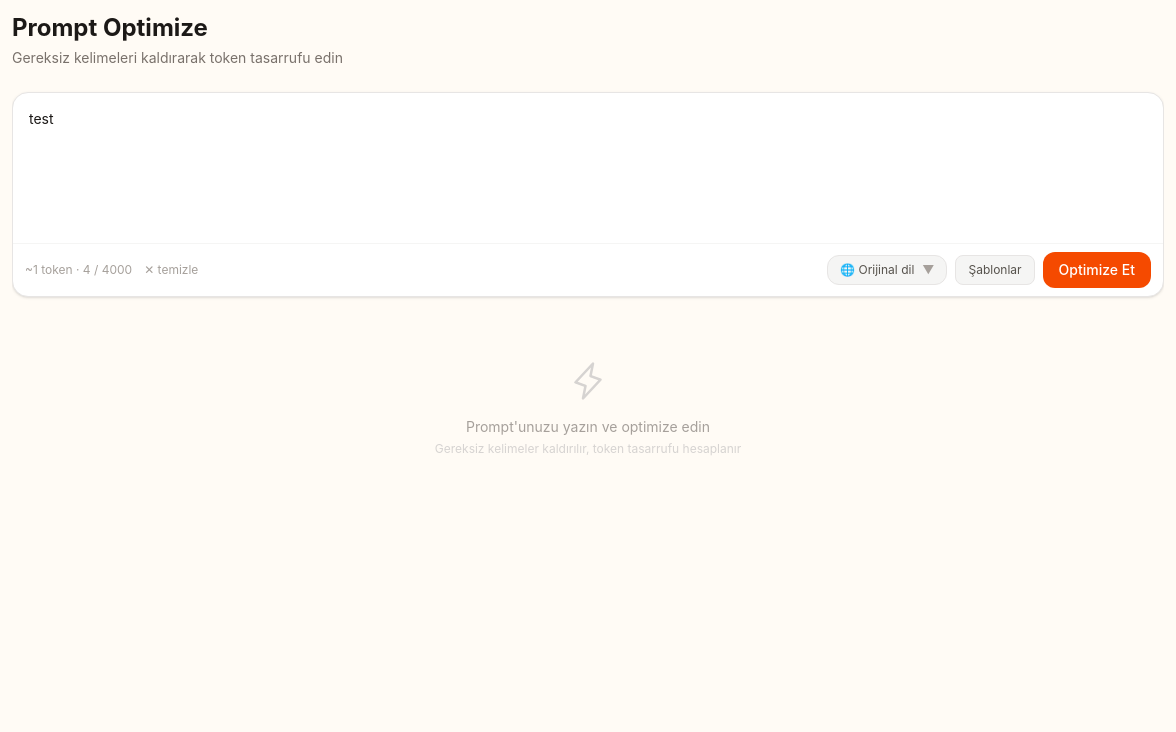
Test: Optimize — başarılı optimizasyon › EmptyState kaybolmalı
This screenshot has width=1176, height=732.
What coordinates should you click on to do the following:
click the button "Optimize Et"
I would click on:
 (1097, 270)
Its box is [1043,252,1151,288].
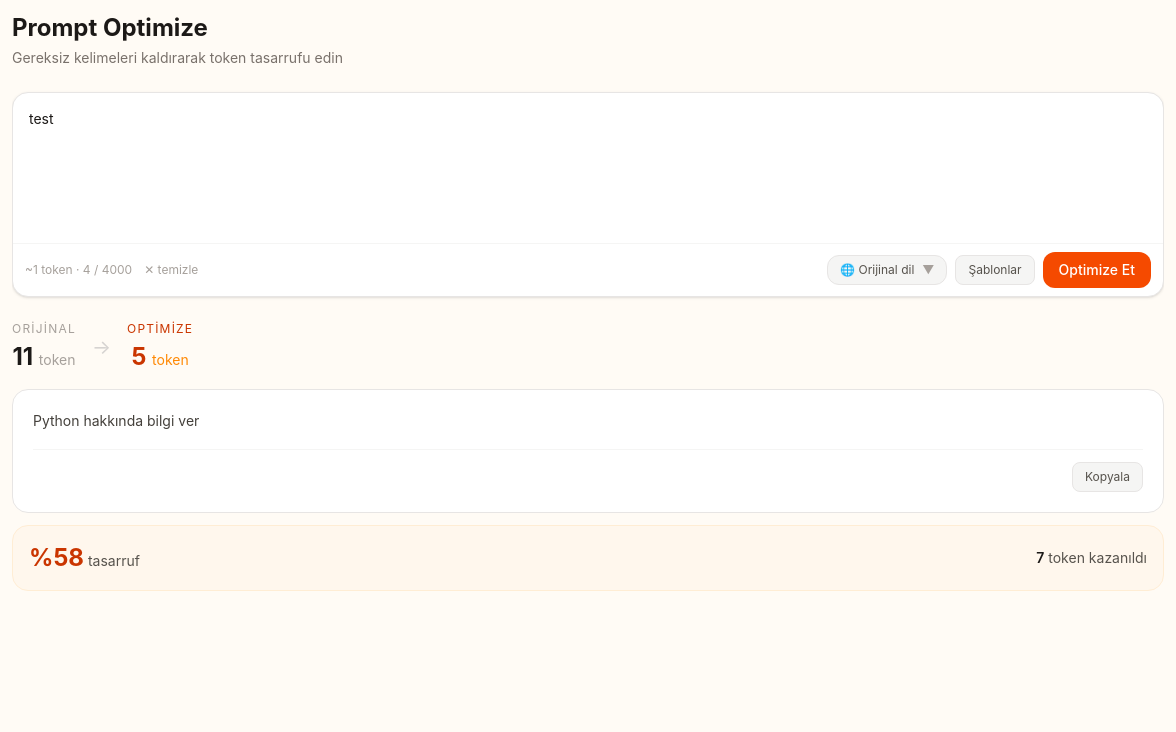
expect the text "Python hakkında bilgi ver" is shown: met, box [33,412,199,429]
expect the text "Prompt'unuzu yazın ve optimize edin" is gone: met
